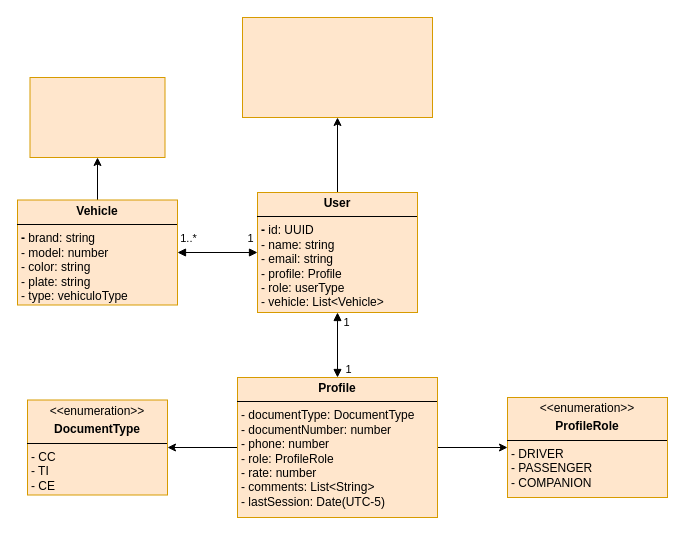
This 685x535 diagram has some shape labels left out. The shapes that lost their labels are listed below. From the top down, each one's centre as x and y in pixels, then its label:
point (337, 67): <<enumeration>> UserType - STUDENT - ADMIN - TEACHER-ADMINISTRATIVE
point (97, 117): <<enumeration>> VehicleType - CAR - MOTORBIKE
